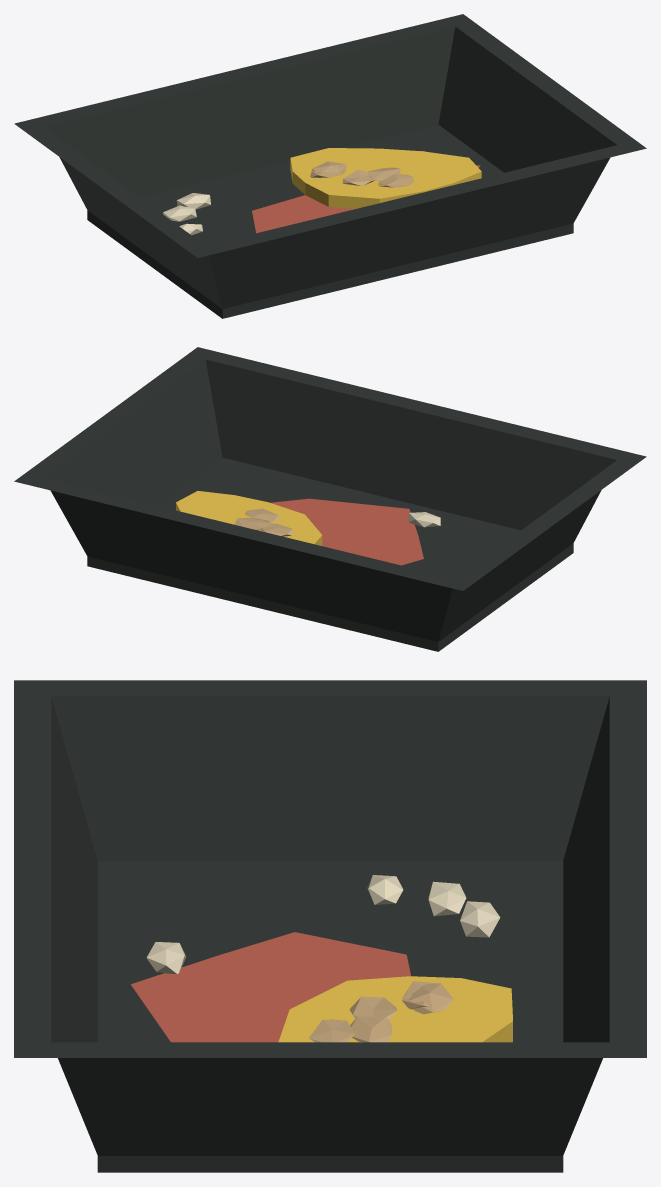
File: lwf_litter_curry_tray_v1.glb
3 views of the same model, one above another, from view 1: azimuth 30°, elevation 25°; view 2: azimuth 150°, elevation 25°; view 3: azimuth 270°, elevation 25° (orthographic). The views are drawn at different scales.
Visible parts, largest first — view 1: LWF_Litter_Curry_Tray_V1; view 2: LWF_Litter_Curry_Tray_V1; view 3: LWF_Litter_Curry_Tray_V1.
Part boxes in pixels (x1,y1,x2,y2): LWF_Litter_Curry_Tray_V1: [14, 14, 646, 318]; LWF_Litter_Curry_Tray_V1: [14, 347, 646, 651]; LWF_Litter_Curry_Tray_V1: [14, 680, 646, 1172].
Size of the model in its own units: 0.192 by 0.037 by 0.136.
1 material, 1 textured.
